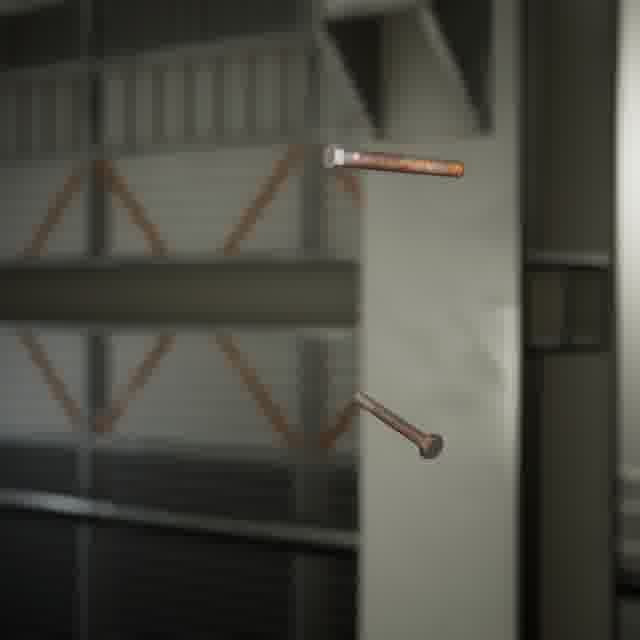bolt: (349, 386, 447, 463), (318, 137, 468, 181)
